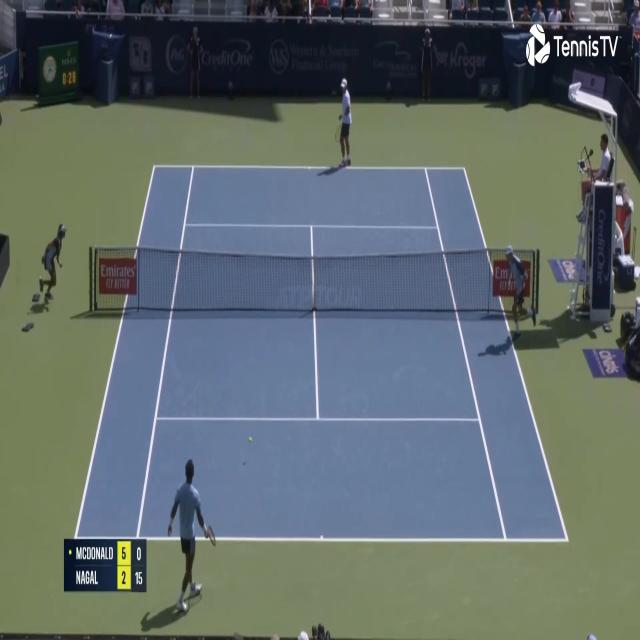tennis-player: (166, 455, 217, 622), (332, 74, 353, 170)
